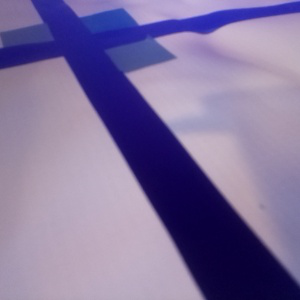bottom_right: (73, 34, 177, 74)
top_left: (1, 22, 83, 54)
top_right: (54, 7, 139, 39)
